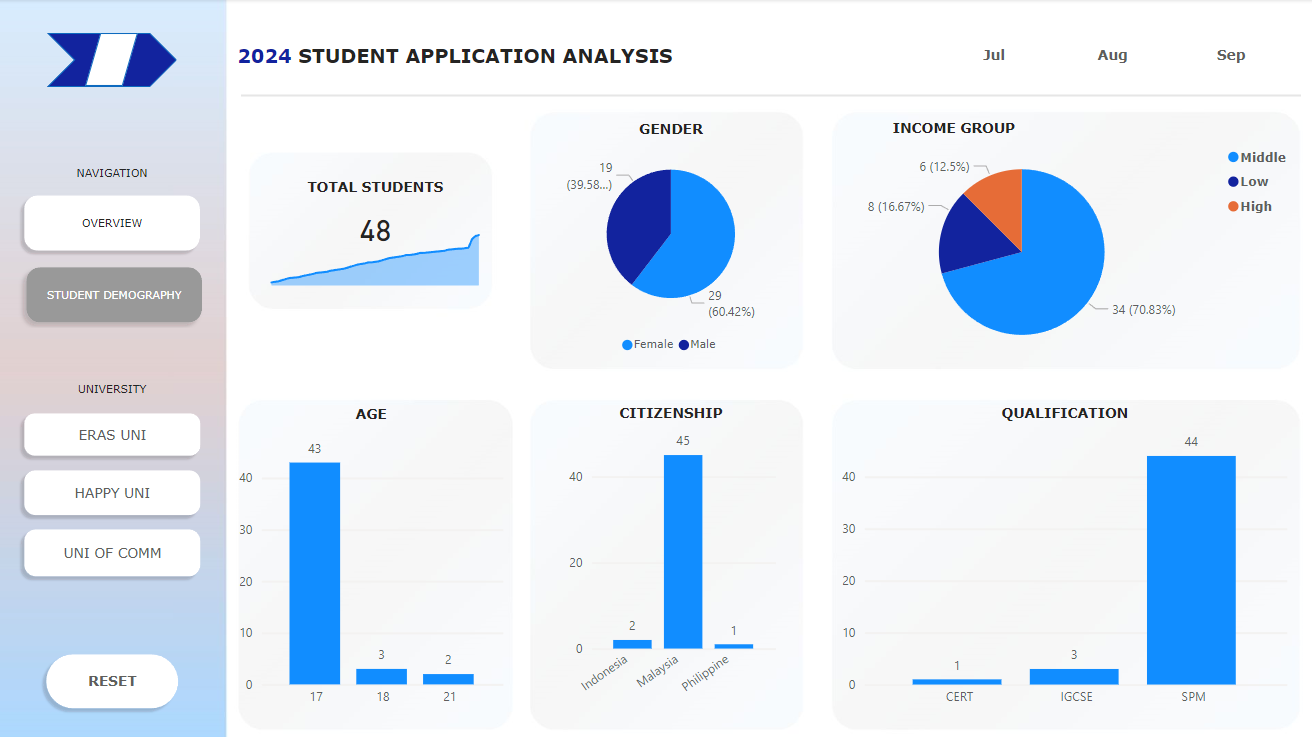

What the dashboard file says about the page in this screenshot:
{"tool":"powerbi","page":{"name":"STUDENT DEMOGRAPHY","canvas":[1280,720],"ordinal":1},"visuals":[{"type":"image","box":[0,0,1280,720],"z":0},{"type":"areaChart","fields":{"Category":["Application Details.Date"],"Y":["Application Details.Cumulative Students"]},"box":[251,203,231.8,81.4],"z":1000},{"type":"textbox","box":[228,38,487,41],"z":2000},{"type":"card","title":"TOTAL STUDENTS","fields":{"Values":["Application Details.No of Students"]},"box":[278.1,172.5,177.5,81.4],"z":3000},{"type":"textbox","box":[0,153.7,221.8,31.1],"z":4000},{"type":"shape","box":[236.4,78.8,1031,30.2],"z":5000},{"type":"pieChart","title":"GENDER","fields":{"Category":["Personal Details.Gender"],"Y":["Application Details.No of Students"]},"box":[547.3,118.7,213.7,235.2],"z":6000},{"type":"pieChart","title":"INCOME GROUP","fields":{"Category":["Personal Details.Income Group"],"Y":["Application Details.Total Students"]},"box":[791,136,476,220],"z":7000},{"type":"pageNavigator","box":[18.1,184.3,185.4,138],"z":8000},{"type":"textbox","box":[0,364.1,221.6,30.5],"z":9000},{"type":"textbox","box":[854.8,110.8,149.3,31.7],"z":10000},{"type":"columnChart","title":"AGE","fields":{"Category":["Personal Details.Age"],"Y":["Application Details.Total Students"]},"box":[229.5,395.8,266.9,300.8],"z":11000},{"type":"columnChart","title":"CITIZENSHIP","fields":{"Category":["Personal Details.Citizenship"],"Y":["Application Details.Total Students"]},"box":[547.3,394.6,213.7,301.9],"z":12000},{"type":"columnChart","title":"QUALIFICATION","fields":{"Category":["Personal Details.Qualification"],"Y":["Application Details.Total Students"]},"box":[816.4,394.6,443.3,301.9],"z":13000},{"type":"slicer","fields":{"Values":["Calendar.Mon"]},"box":[886.1,33.1,393.9,43.8],"z":14000},{"type":"shape","box":[47.7,33.1,126.4,52.5],"z":15000},{"type":"shape","box":[84.6,33.1,51.6,51.6],"z":16000},{"type":"actionButton","box":[39.6,629.8,142.5,66.7],"z":17000},{"type":"actionButton","box":[18.1,395.8,185.4,55.4],"z":18000},{"type":"actionButton","box":[18.1,451.2,185.4,57.7],"z":19000},{"type":"actionButton","box":[18.1,508.8,185.4,59.9],"z":20000}]}

Visuals, with their boxes in screenshot pixels (x1, y1, x2, y2), scaled from the page's 1280x720 canvas onto the 1312x737 screenshot:
image: x1=0 y1=0 x2=1311 y2=736
areaChart - Application Details.Date x Application Details.Cumulative Students: x1=257 y1=208 x2=495 y2=291
textbox: x1=234 y1=39 x2=733 y2=81
"TOTAL STUDENTS" card: x1=285 y1=177 x2=467 y2=260
textbox: x1=0 y1=157 x2=227 y2=189
shape: x1=242 y1=81 x2=1299 y2=112
"GENDER" pieChart: x1=561 y1=122 x2=780 y2=362
"INCOME GROUP" pieChart: x1=811 y1=139 x2=1299 y2=364
pageNavigator: x1=19 y1=189 x2=209 y2=330
textbox: x1=0 y1=373 x2=227 y2=404
textbox: x1=876 y1=113 x2=1029 y2=146
"AGE" columnChart: x1=235 y1=405 x2=509 y2=713
"CITIZENSHIP" columnChart: x1=561 y1=404 x2=780 y2=713
"QUALIFICATION" columnChart: x1=837 y1=404 x2=1291 y2=713
slicer - Calendar.Mon: x1=908 y1=34 x2=1311 y2=79
shape: x1=49 y1=34 x2=178 y2=88
shape: x1=87 y1=34 x2=140 y2=87
actionButton: x1=41 y1=645 x2=187 y2=713
actionButton: x1=19 y1=405 x2=209 y2=462
actionButton: x1=19 y1=462 x2=209 y2=521
actionButton: x1=19 y1=521 x2=209 y2=582
